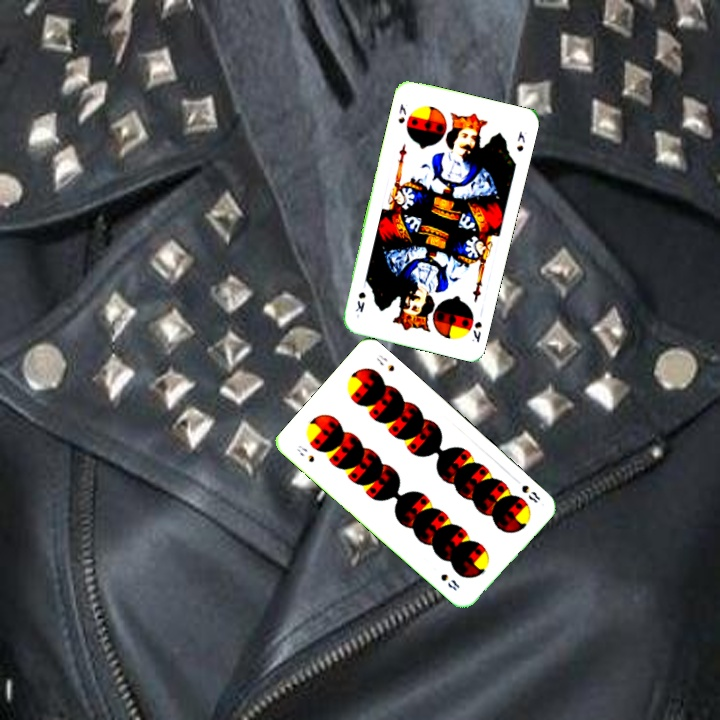S8: (517, 481, 543, 506), (293, 441, 317, 465)
SK: (468, 317, 484, 345), (394, 100, 409, 126)
